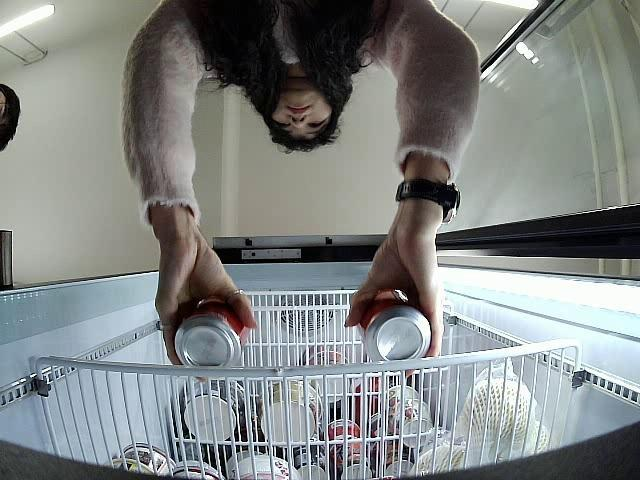11_cocaColaZero: (354, 285, 430, 360), (174, 297, 250, 365)
